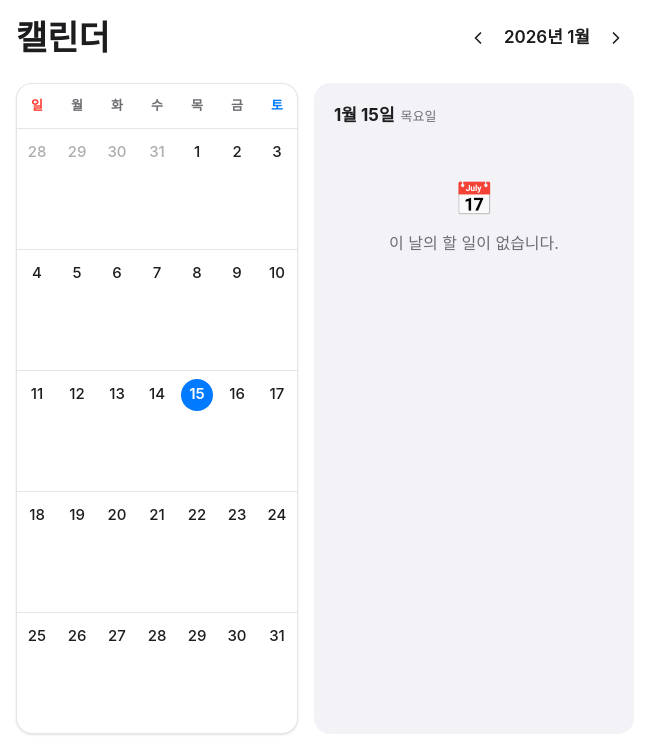
Scenario: CalendarPage › 1월에서 이전 달 클릭 시 전년도 12월로 이동
Check: the text with test id "month-label" reads "2026년 1월", box [504, 27, 590, 47]
What coordinates should you click on to do the following:
click the button with test id "prev-month-btn"
I would click on:
 (478, 38)
Its box is [460, 20, 496, 56].
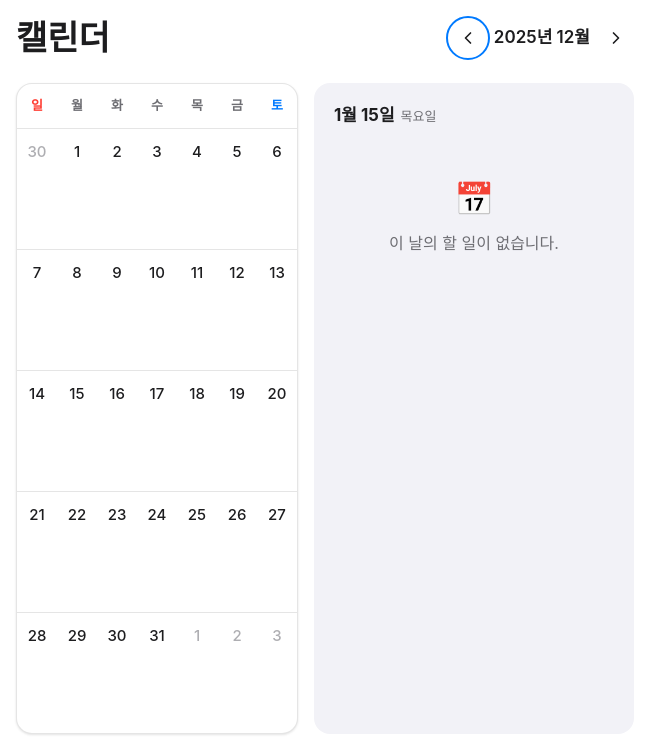
Check: the text with test id "month-label" reads "2025년 12월", box [494, 27, 590, 47]
